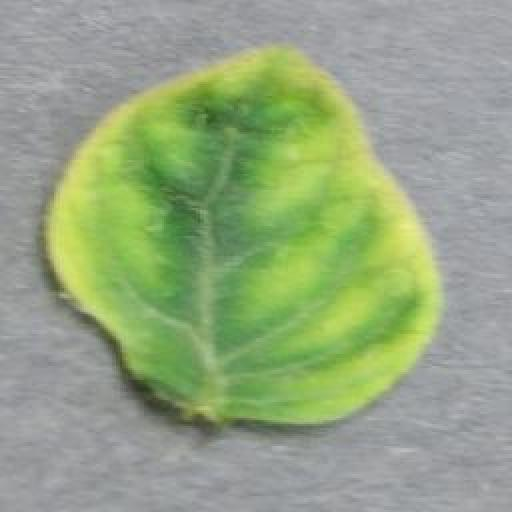Yellow Leaf Curl Virus: (43, 40, 441, 424)
